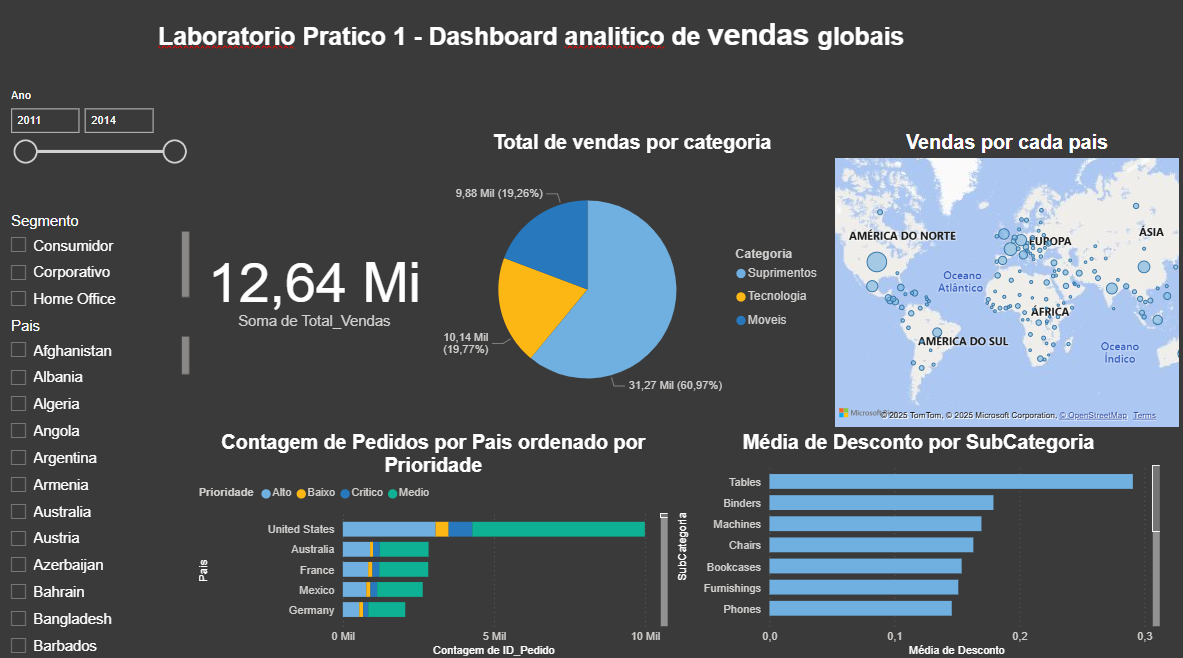

This screenshot's page, from the dashboard's own definition file:
{"tool":"powerbi","page":{"name":"Página 1","canvas":[1280,720],"ordinal":0},"visuals":[{"type":"card","fields":{"Values":["Sum(dataset.Total_Vendas)"]},"box":[210.5,165.2,259.1,301.2],"z":0},{"type":"pieChart","title":"Total de vendas por categoria","fields":{"Category":["dataset.Categoria"],"Y":["CountNonNull(dataset.ID_Pedido)"]},"box":[469.6,149,427.5,317.4],"z":1000},{"type":"barChart","title":"Contagem de Pedidos  por Pais ordenado por Prioridade","fields":{"Category":["dataset.Pais"],"Y":["CountNonNull(dataset.ID_Pedido)"],"Series":["dataset.Prioridade"]},"box":[210.5,472.8,516.5,247.7],"z":2000},{"type":"clusteredBarChart","fields":{"Category":["dataset.SubCategoria"],"Y":["Avg(dataset.Desconto)"]},"box":[727,472.8,531.1,247.7],"z":3000},{"type":"map","title":"Vendas por cada pais ","fields":{"Category":["dataset.Pais"],"Size":["Sum(dataset.Total_Vendas)"]},"box":[897.1,149,382.1,323.8],"z":3001},{"type":"slicer","fields":{"Values":["dataset.Pais"]},"box":[0,344.9,210.5,375.7],"z":3002},{"type":"slicer","fields":{"Values":["dataset.Segmento"]},"box":[0,231.5,210.5,113.3],"z":3003},{"type":"slicer","fields":{"Values":["dataset.Data_Pedido.Variation.Hierarquia de datas.Ano"]},"box":[0,98.8,210.5,132.8],"z":3004},{"type":"textbox","box":[163.5,21,829,77.7],"z":3006}]}

Visuals, with their boxes in screenshot pixels (x1, y1, x2, y2), scaled from the page's 1280x720 canvas onto the 1183x658 screenshot:
card - Sum(dataset.Total_Vendas): 195:151:434:426
"Total de vendas por categoria" pieChart: 434:136:829:426
"Contagem de Pedidos  por Pais ordenado por Prioridade" barChart: 195:432:672:657
clusteredBarChart - dataset.SubCategoria x Avg(dataset.Desconto): 672:432:1163:657
"Vendas por cada pais " map: 829:136:1182:432
slicer - dataset.Pais: 0:315:195:657
slicer - dataset.Segmento: 0:212:195:315
slicer - dataset.Data_Pedido.Variation.Hierarquia de datas.Ano: 0:90:195:212
textbox: 151:19:917:90
